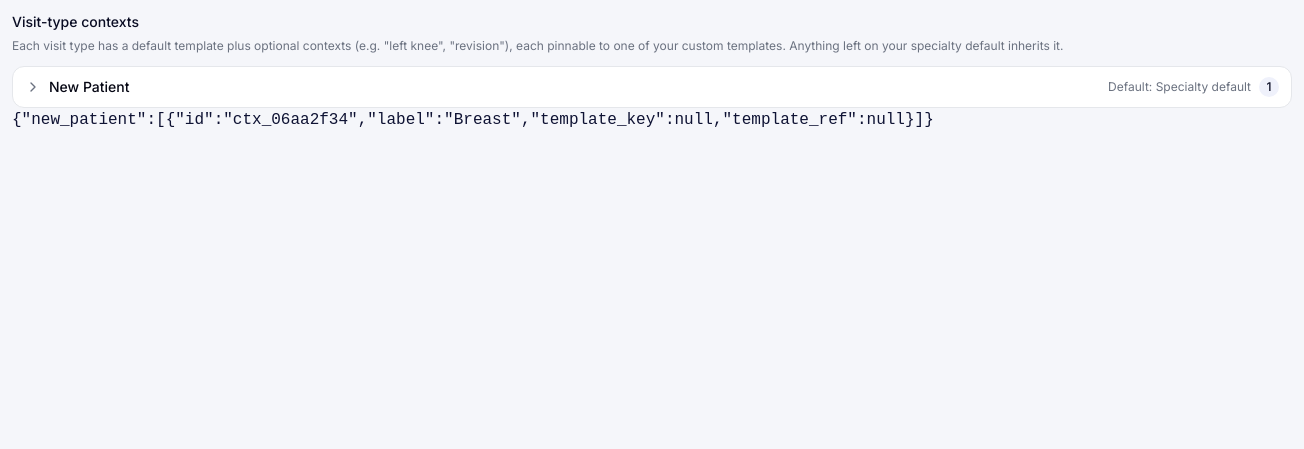
Test: VisitTypeContextsEditor — validation gates › blocks Add for a duplicate label within the same visit type
Click the button "New Patient Default: Specialty default 1": (89, 86) x1=13 y1=67 x2=1291 y2=107
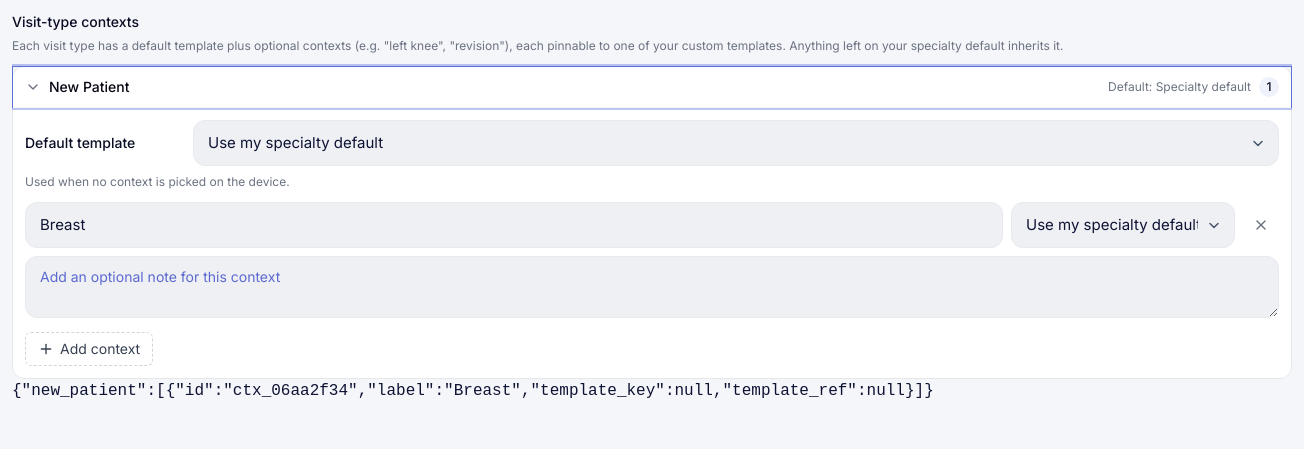
Click the button "Add context": (89, 349) x1=25 y1=332 x2=153 y2=366
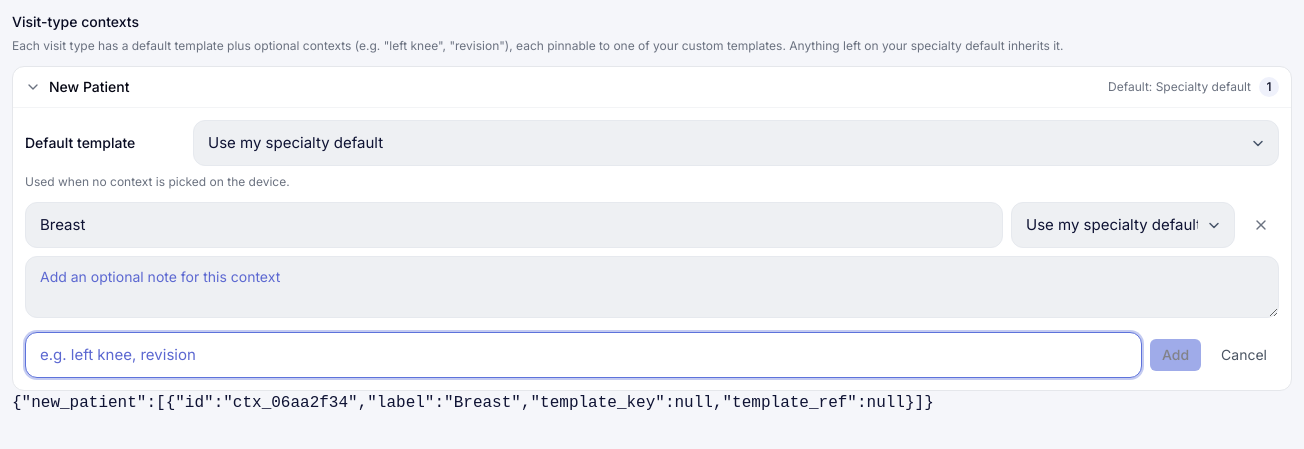
In the field named "context label": (583, 355) x1=25 y1=332 x2=1142 y2=378, type "Breast"
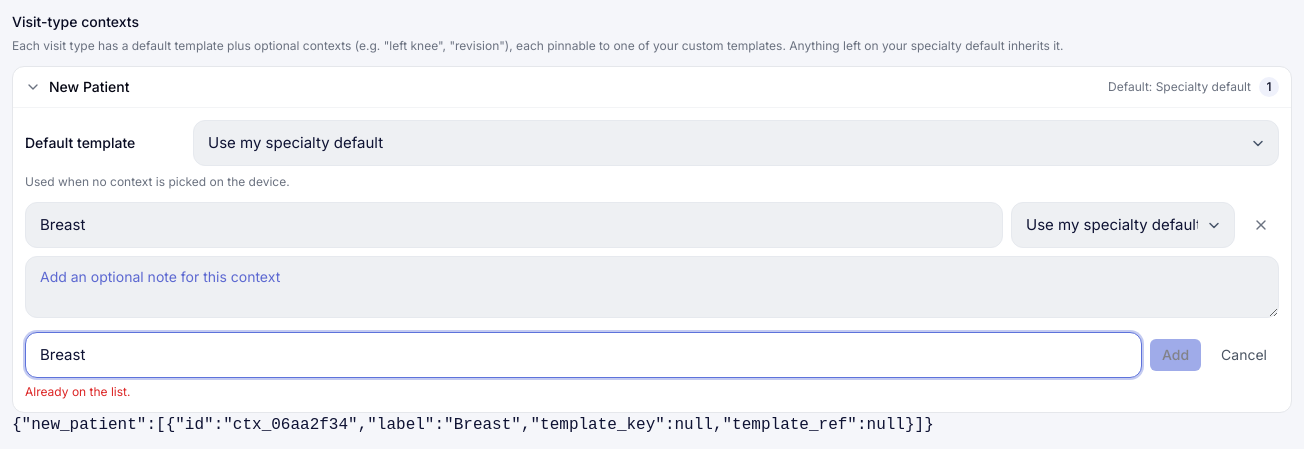
Expected: the button "Add" is disabled, x1=1150 y1=339 x2=1201 y2=371
Expected: the text "Already on the list." is shown, x1=25 y1=384 x2=130 y2=399
